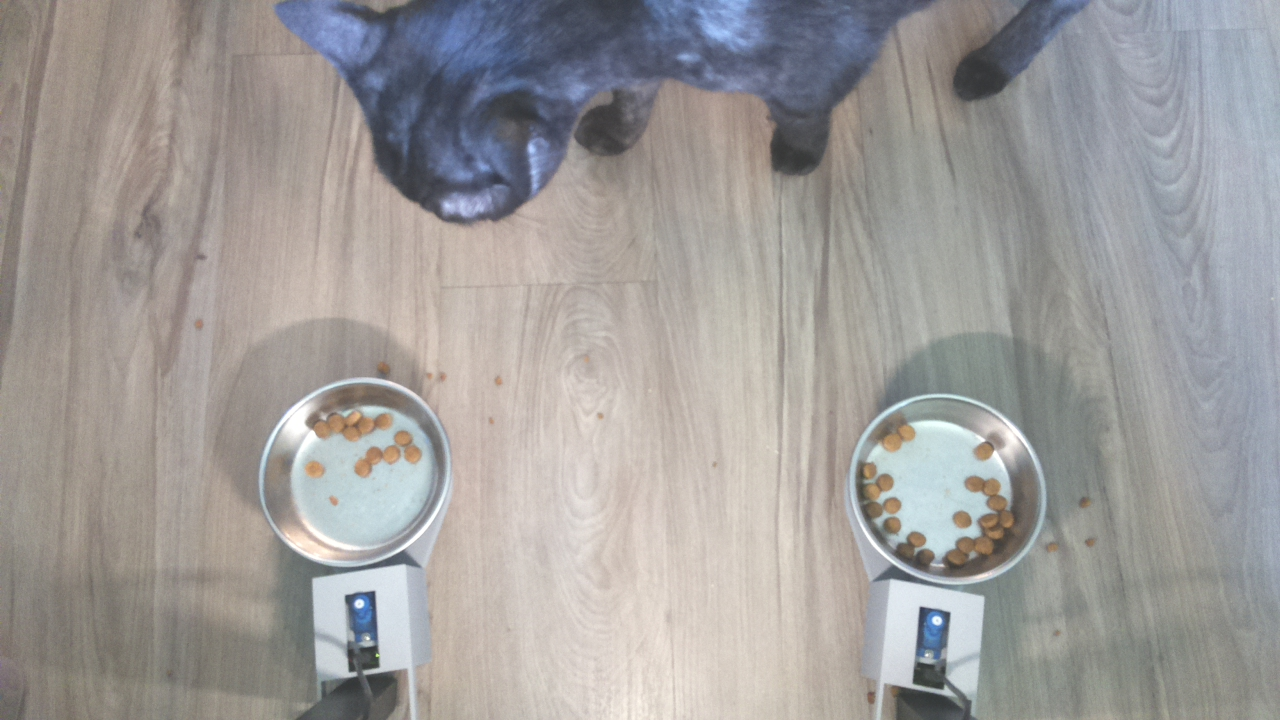open_bowl: (845, 385, 1050, 592), (259, 370, 457, 571)
saki: (268, 1, 583, 230)
